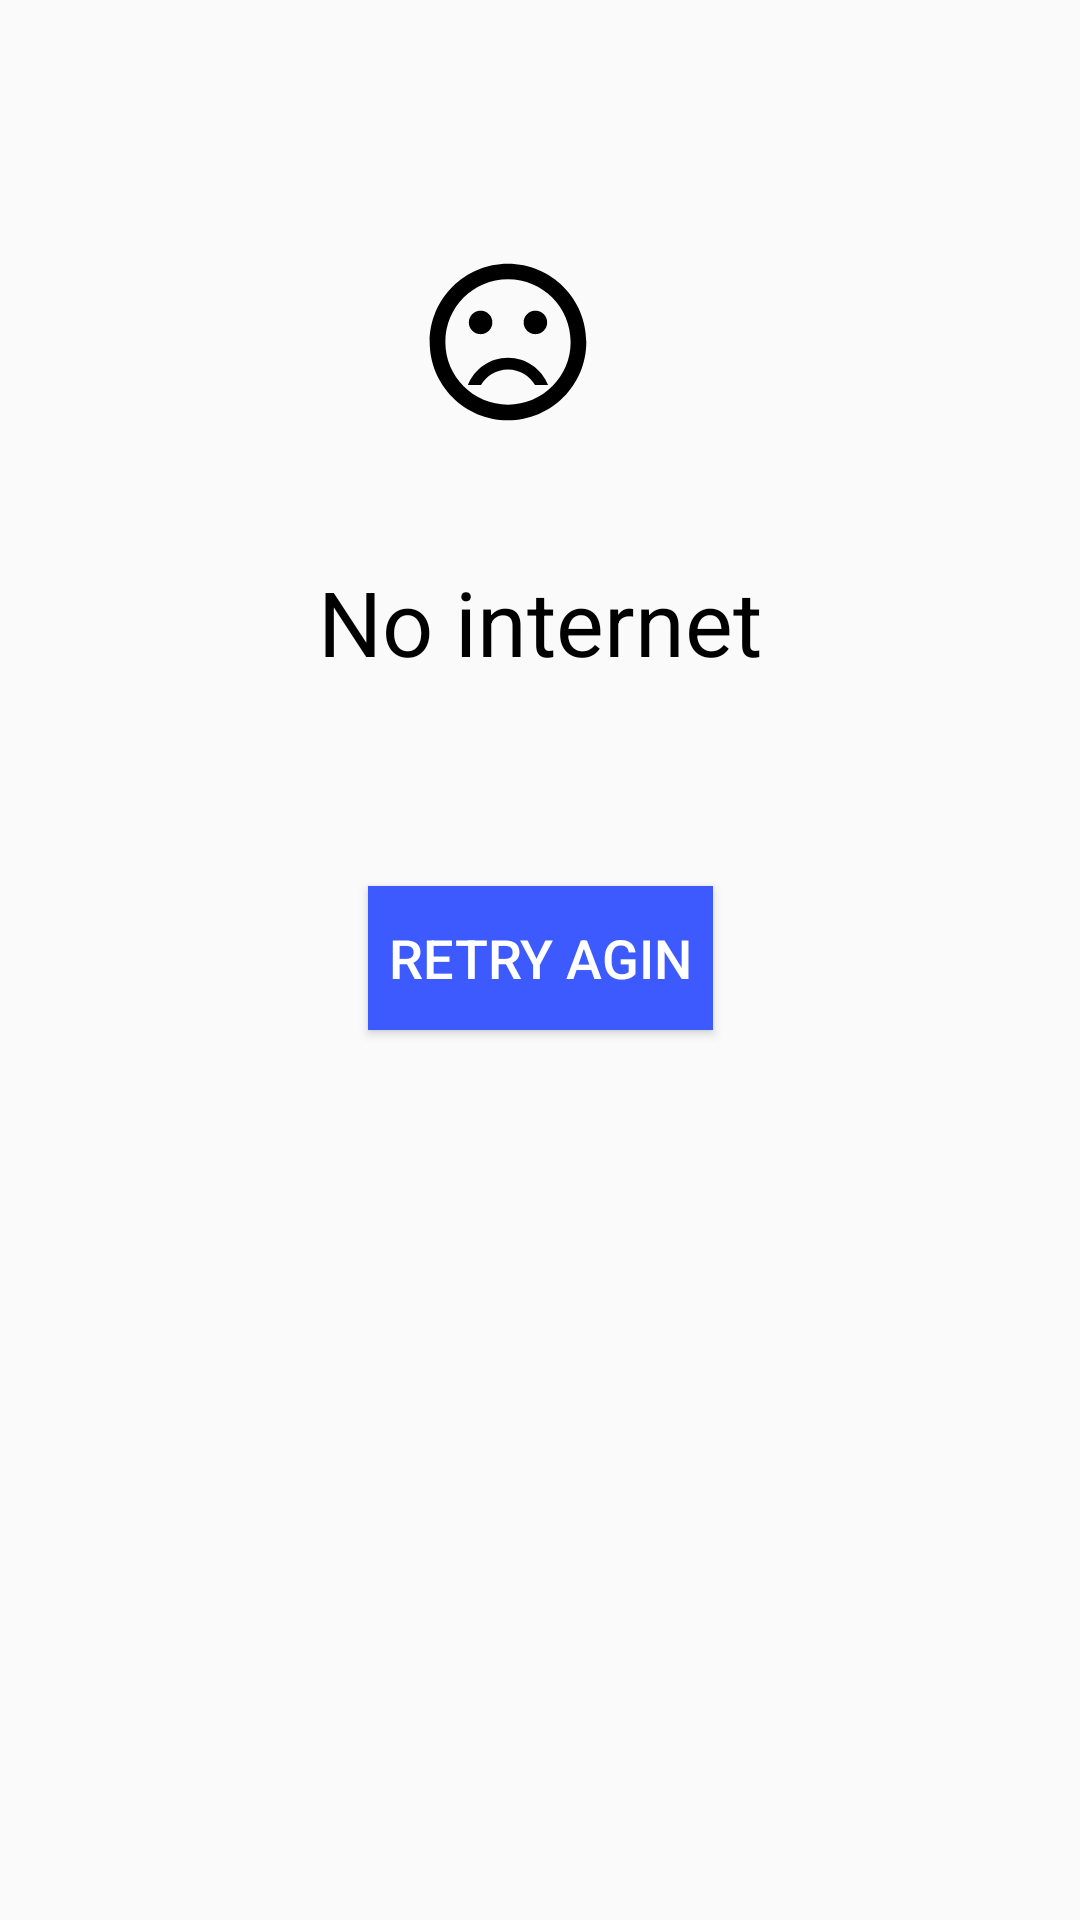

Where to tap for icons on this 1080px x 1920px app screen, as (x=x, y=y):
network emoje said: (x=508, y=342)
